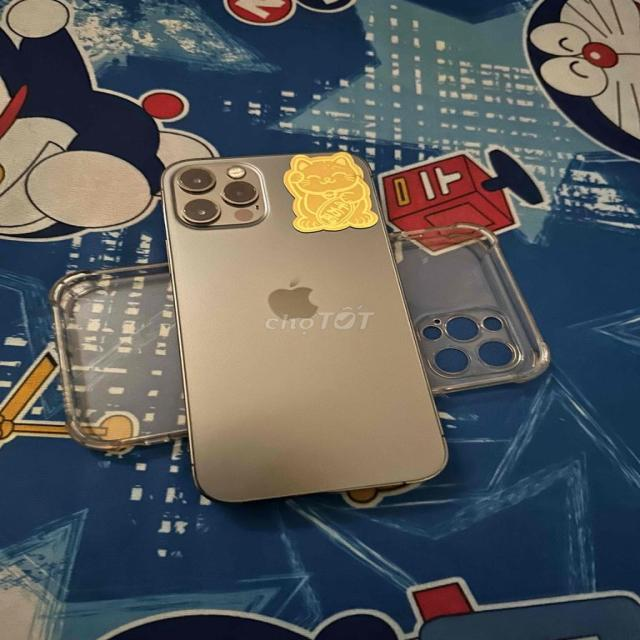gen_12_13: (157, 140, 453, 504)
